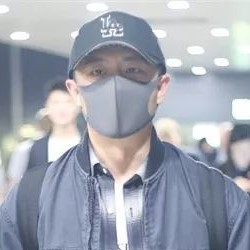mask: (64, 72, 162, 140)
